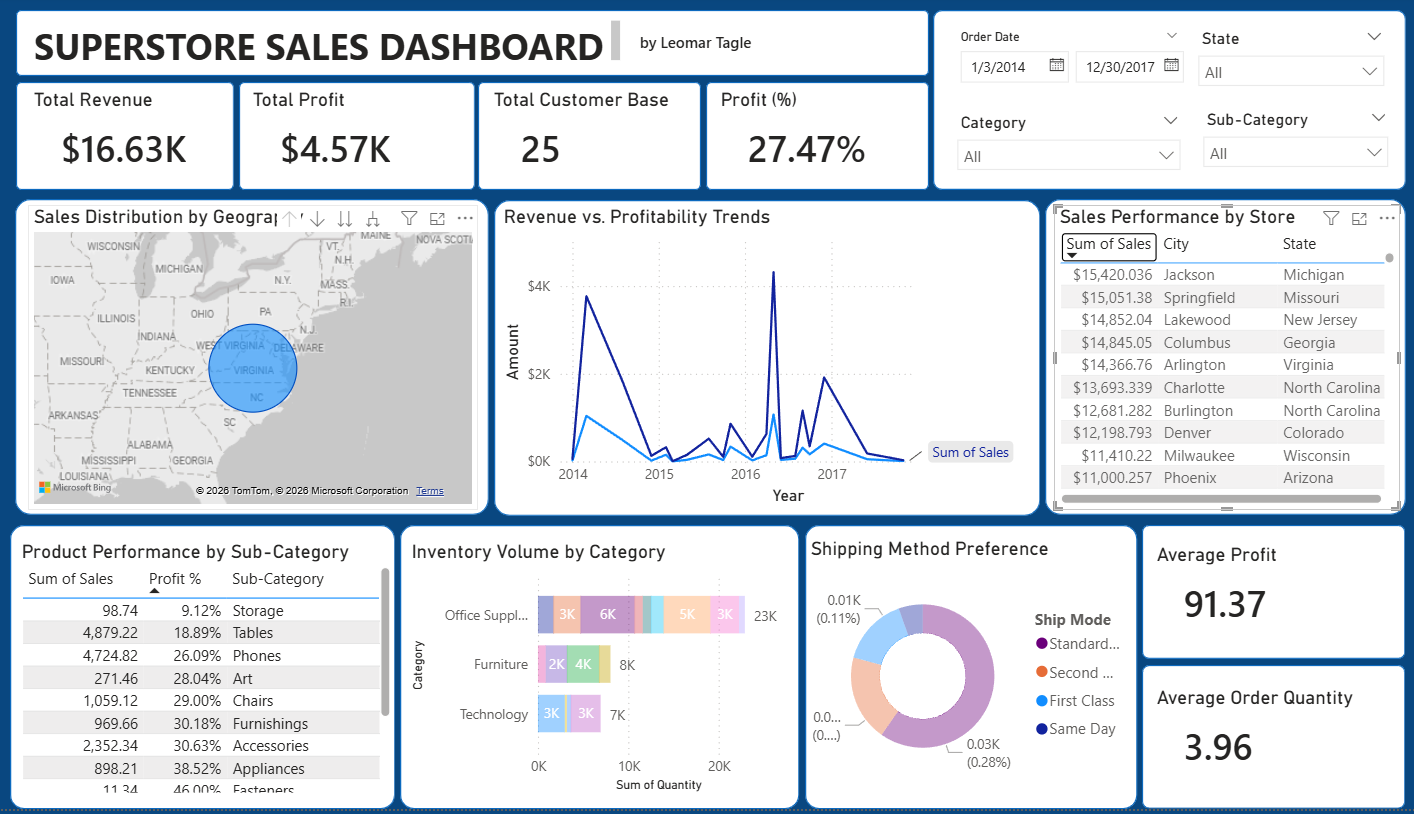

The dashboard page shown, as its layout file describes it:
{"tool":"powerbi","page":{"name":"Page 1","canvas":[1280,720],"ordinal":0},"visuals":[{"type":"shape","box":[1027.1,592.3,233.4,127.4],"z":0},{"type":"shape","box":[1027.1,467.8,233.4,118.7],"z":1000},{"type":"shape","box":[727.5,467.8,294.7,251.9],"z":2000},{"type":"shape","box":[368.6,467.8,354,251.9],"z":3000},{"type":"shape","box":[23.3,467.8,341.4,251.9],"z":4000},{"type":"shape","box":[940.5,179,320,280.1],"z":5000},{"type":"shape","box":[452.3,179.9,484.4,280.1],"z":6000},{"type":"shape","box":[27.2,179,420.2,280.1],"z":7000},{"type":"shape","box":[841.5,11.5,419.4,159.6],"z":8000},{"type":"shape","box":[28.4,11.5,809.6,58.5],"z":9000},{"type":"shape","box":[640.2,75.4,197.7,95.8],"z":10000},{"type":"shape","box":[438,75.4,197.7,95.8],"z":11000},{"type":"shape","box":[226.1,75.4,209.3,95.8],"z":12000},{"type":"shape","box":[28.4,75.4,193.3,95.8],"z":13000},{"type":"cardVisual","title":"Total Profit","fields":{"Data":["Sum(Sample - Superstore.Profit)"]},"box":[233.2,80.7,197.7,84.2],"z":14000},{"type":"cardVisual","title":"Total Revenue","fields":{"Data":["Sum(Sample - Superstore.Sales)"]},"box":[39,80.7,176.5,84.2],"z":15000},{"type":"cardVisual","title":"\tTotal Customer Base","fields":{"Data":["Count(Sample - Superstore.Customer ID)"]},"box":[446.9,80.7,180,84.2],"z":16000},{"type":"slicer","fields":{"Values":["Sample - Superstore.State"]},"box":[1067,24.3,184.8,62.2],"z":17000},{"type":"slicer","fields":{"Values":["Sample - Superstore.Order Date"]},"box":[853,24.3,217.9,73.9],"z":18000},{"type":"map","title":"\tSales Distribution by Geography","fields":{"Category":["Sample - Superstore.State","Sample - Superstore.City"],"Size":["Sum(Sample - Superstore.Sales)"]},"box":[38.9,184.8,398.8,270.4],"z":19000},{"type":"lineChart","title":"Revenue vs. Profitability Trends","fields":{"Y":["Sum(Sample - Superstore.Profit)","Sum(Sample - Superstore.Sales)"],"Category":["Sample - Superstore.Order Date.Variation.Date Hierarchy.Year","Sample - Superstore.Order Date.Variation.Date Hierarchy.Month"]},"box":[456.2,184.8,466.9,270.4],"z":20000},{"type":"tableEx","title":"Sales Performance by Store","fields":{"Values":["Sum(Sample - Superstore.Sales)","Sample - Superstore.City","Sample - Superstore.State"]},"box":[948.8,184.4,306.8,270.4],"z":21000},{"type":"donutChart","title":"\tShipping Method Preference","fields":{"Category":["Sample - Superstore.Ship Mode"],"Y":["CountNonNull(Sample - Superstore.Customer ID)"]},"box":[727.5,478.5,294.7,227.6],"z":22000},{"type":"slicer","fields":{"Values":["Sample - Superstore.Category"]},"box":[853,98.4,218.1,61.2],"z":23000},{"type":"barChart","title":"\tInventory Volume by Category","fields":{"Category":["Sample - Superstore.Category"],"Y":["Sum(Sample - Superstore.Quantity)"],"Series":["Sample - Superstore.Sub-Category"]},"box":[374.2,481.5,346.7,227.9],"z":24000},{"type":"cardVisual","title":"Average Order Quantity","fields":{"Data":["Avg(Sample - Superstore.Quantity)"]},"box":[1034.9,610.8,216.9,83.6],"z":25000},{"type":"cardVisual","title":"Average Profit","fields":{"Data":["Avg(Sample - Superstore.Profit)"]},"box":[1034.9,484.4,216.9,83.6],"z":26000},{"type":"slicer","fields":{"Values":["Sample - Superstore.Sub-Category"]},"box":[1071.1,95.8,184.4,63.8],"z":27000},{"type":"cardVisual","title":"Profit (%)","fields":{"Data":["Sample - Superstore.Sum of Profit divided by Sum of Sales 2"]},"box":[648.2,80.7,179.1,84.2],"z":28000},{"type":"textbox","box":[39,16,530.2,48.8],"z":29000},{"type":"tableEx","title":"Product Performance by Sub-Category","fields":{"Values":["Sum(Sample - Superstore.Sales)","Sample - Superstore.Sum of Profit divided by Sum of Sales 2","Sample - Superstore.Sub-Category"]},"box":[28.4,481.5,336.9,228.8],"z":30000},{"type":"textbox","box":[576.4,26.6,127.7,27.5],"z":31000}]}

Visuals, with their boxes in screenshot pixels (x1, y1, x2, y2), scaled from the page's 1280x720 canvas onto the 1414x814 screenshot:
shape: x1=1135, y1=670, x2=1392, y2=813
shape: x1=1135, y1=529, x2=1392, y2=663
shape: x1=804, y1=529, x2=1129, y2=813
shape: x1=407, y1=529, x2=798, y2=813
shape: x1=26, y1=529, x2=403, y2=813
shape: x1=1039, y1=202, x2=1392, y2=519
shape: x1=500, y1=203, x2=1035, y2=520
shape: x1=30, y1=202, x2=494, y2=519
shape: x1=930, y1=13, x2=1393, y2=193
shape: x1=31, y1=13, x2=926, y2=79
shape: x1=707, y1=85, x2=926, y2=194
shape: x1=484, y1=85, x2=702, y2=194
shape: x1=250, y1=85, x2=481, y2=194
shape: x1=31, y1=85, x2=245, y2=194
"Total Profit" cardVisual: x1=258, y1=91, x2=476, y2=186
"Total Revenue" cardVisual: x1=43, y1=91, x2=238, y2=186
"	Total Customer Base" cardVisual: x1=494, y1=91, x2=693, y2=186
slicer - Sample - Superstore.State: x1=1179, y1=27, x2=1383, y2=98
slicer - Sample - Superstore.Order Date: x1=942, y1=27, x2=1183, y2=111
"	Sales Distribution by Geography" map: x1=43, y1=209, x2=484, y2=515
"Revenue vs. Profitability Trends" lineChart: x1=504, y1=209, x2=1020, y2=515
"Sales Performance by Store" tableEx: x1=1048, y1=208, x2=1387, y2=514
"	Shipping Method Preference" donutChart: x1=804, y1=541, x2=1129, y2=798
slicer - Sample - Superstore.Category: x1=942, y1=111, x2=1183, y2=180
"	Inventory Volume by Category" barChart: x1=413, y1=544, x2=796, y2=802
"Average Order Quantity" cardVisual: x1=1143, y1=691, x2=1383, y2=785
"Average Profit" cardVisual: x1=1143, y1=548, x2=1383, y2=642
slicer - Sample - Superstore.Sub-Category: x1=1183, y1=108, x2=1387, y2=180
"Profit (%)" cardVisual: x1=716, y1=91, x2=914, y2=186
textbox: x1=43, y1=18, x2=629, y2=73
"Product Performance by Sub-Category" tableEx: x1=31, y1=544, x2=404, y2=803
textbox: x1=637, y1=30, x2=778, y2=61
